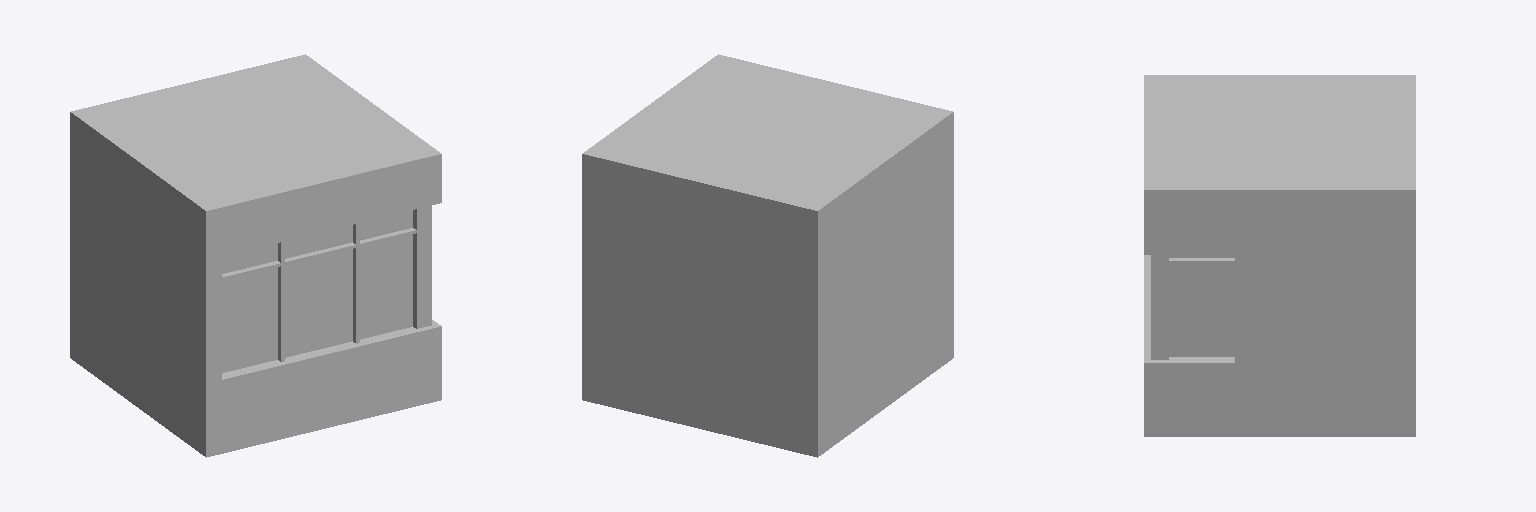
Rendered from tsimpoukh-corner.001.obj.
3 renders of one model, left to right at view 1: azimuth 30°, elevation 25°; view 2: azimuth 150°, elevation 25°; view 3: azimuth 270°, elevation 25°, orthographic.
Visible parts, largest first — view 1: tsimpoukh-corner.001; view 2: tsimpoukh-corner.001; view 3: tsimpoukh-corner.001.
Part boxes in pixels (x1,y1,x2,y2): tsimpoukh-corner.001: (70,54,441,457); tsimpoukh-corner.001: (582,54,953,457); tsimpoukh-corner.001: (1144,75,1415,436).
Bounding box in the file's own units: 3 × 3 × 3.